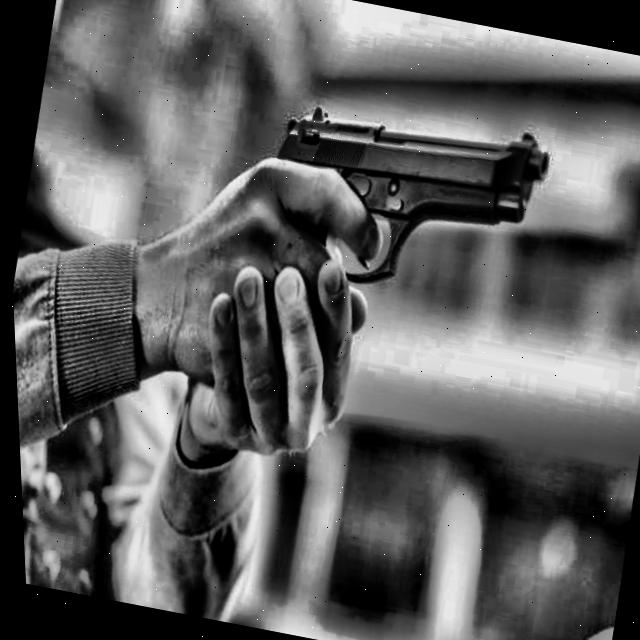pistol: (216, 73, 581, 378)
